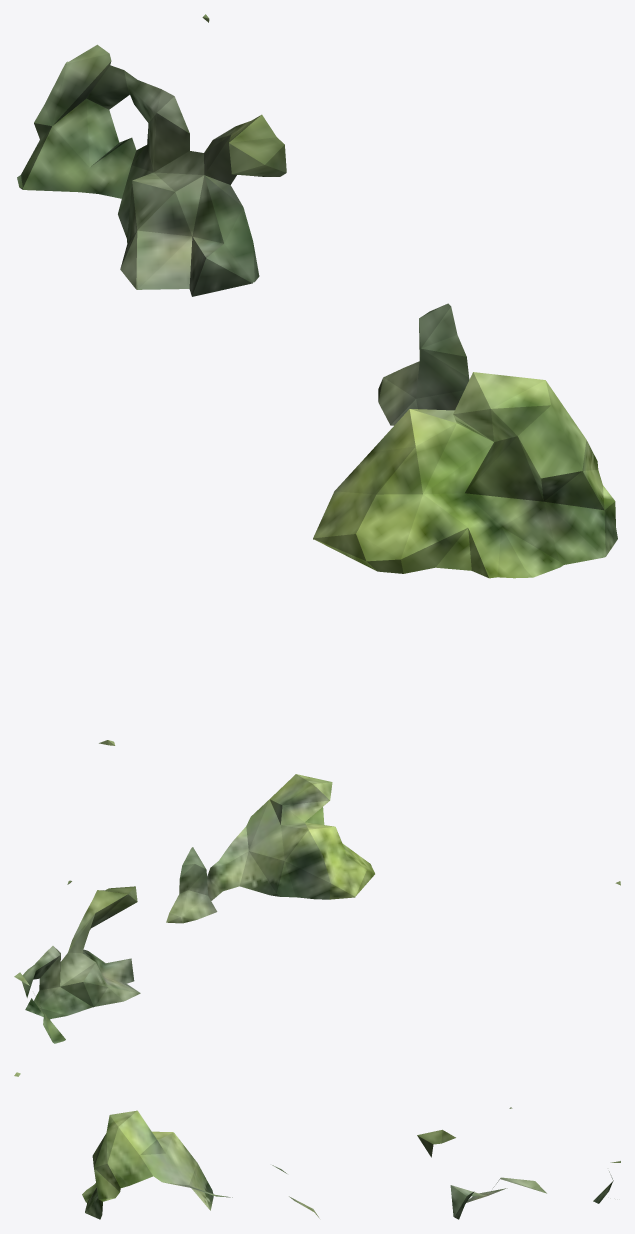
The picture shows the model from 3 angles, top to bottom: view 1: azimuth 30°, elevation 25°; view 2: azimuth 150°, elevation 25°; view 3: azimuth 270°, elevation 25°; orthographic projection. The views are drawn at different scales.
Bounding box in the file's own units: 21.01 × 7.48 × 36.86.
1 material, 1 textured.
